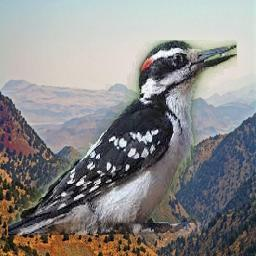Woodpecker: (9, 41, 238, 236)
